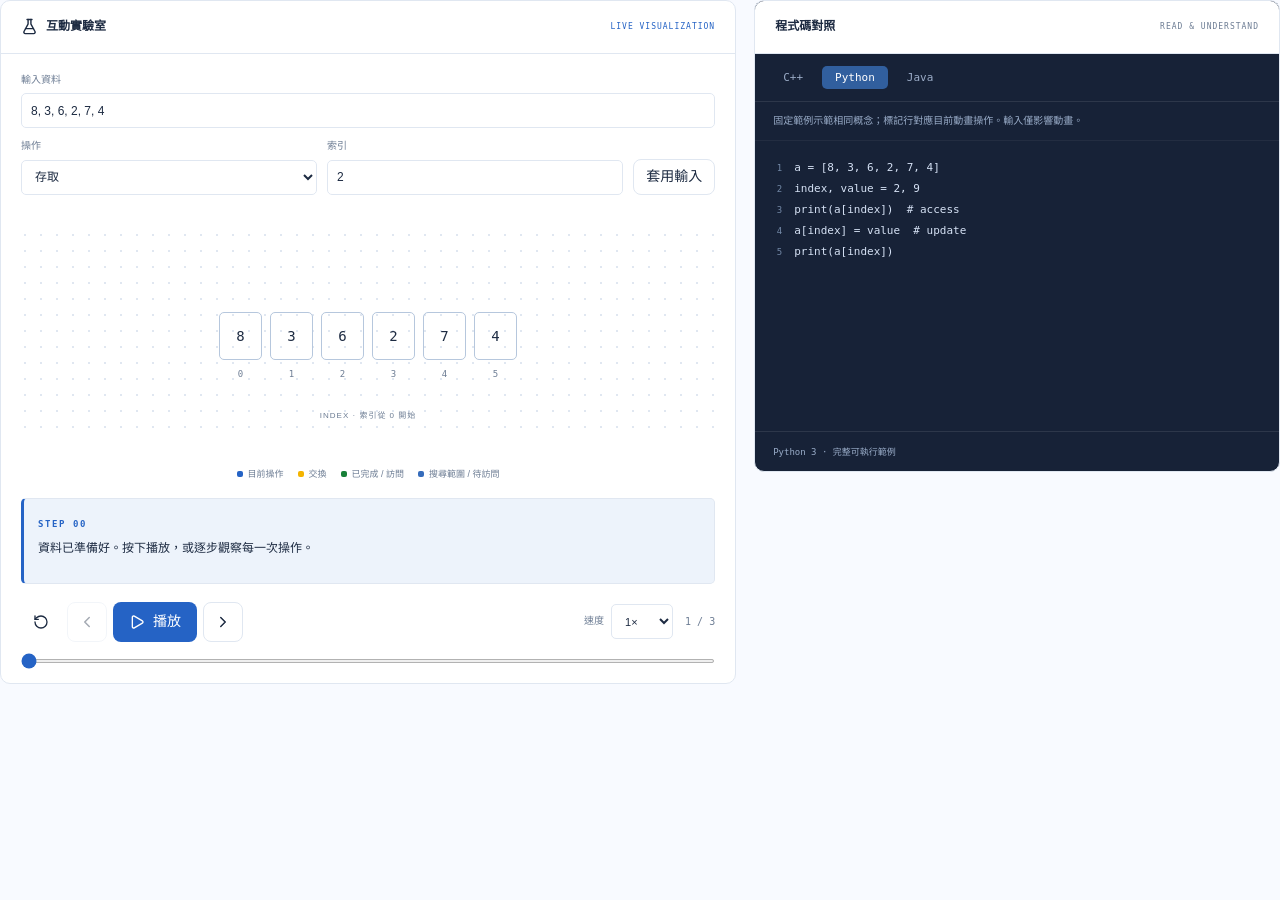
共用播放器 DOM 整合（不等同瀏覽器 E2E） › 到最後一步立即停止，停留後不再改變
Click the button "播放".
click(155, 622)  # box [113,602,197,642]
Wait 6700 ms
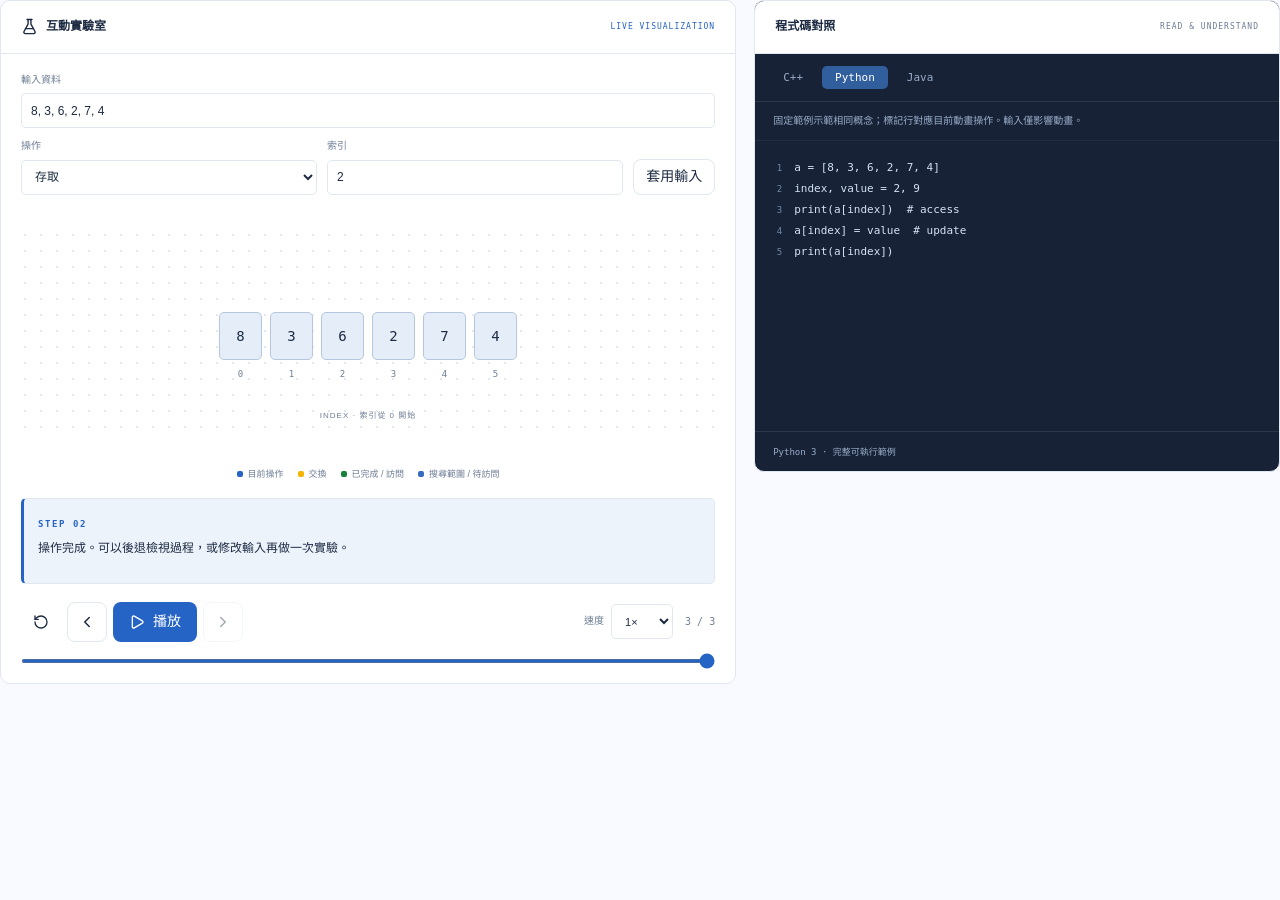
Expected: the button named "下一步" is disabled, [203,602,243,642]
Now the slider named "播放進度" holds "2", box [21,659,715,663]
